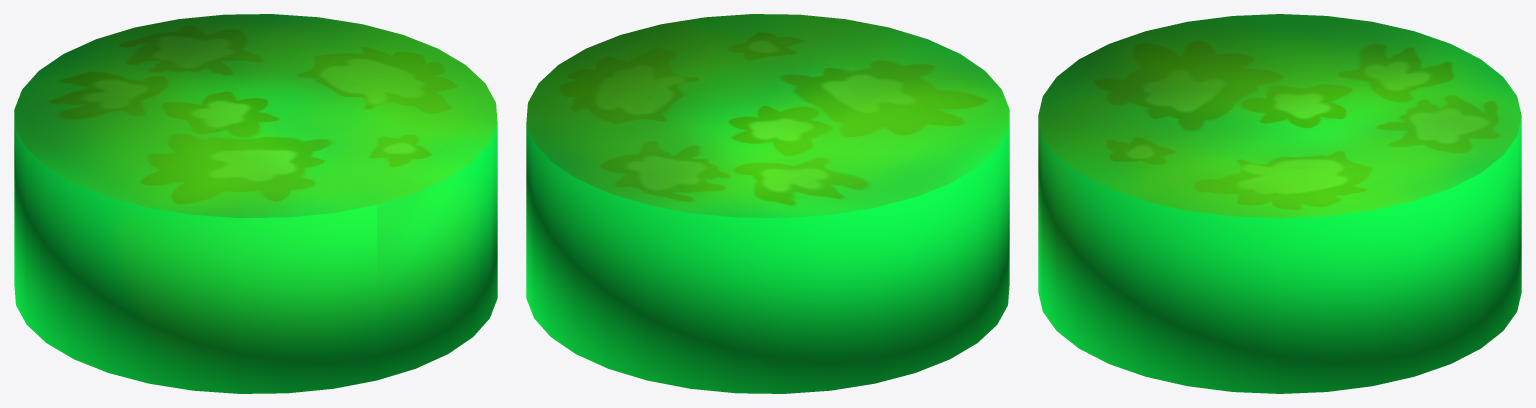
The model's file is Platform1.fbx.
3 renders of one model, left to right at view 1: azimuth 30°, elevation 25°; view 2: azimuth 150°, elevation 25°; view 3: azimuth 270°, elevation 25°, orthographic.
Parts seen in each view (by area): view 1: Cylinder; view 2: Cylinder; view 3: Cylinder.
Part boxes in pixels (<box>): Cylinder: <box>14,14,497,393</box>; Cylinder: <box>526,14,1009,393</box>; Cylinder: <box>1038,14,1521,393</box>.
Size of the model in its own units: 200 by 80.12 by 200.
